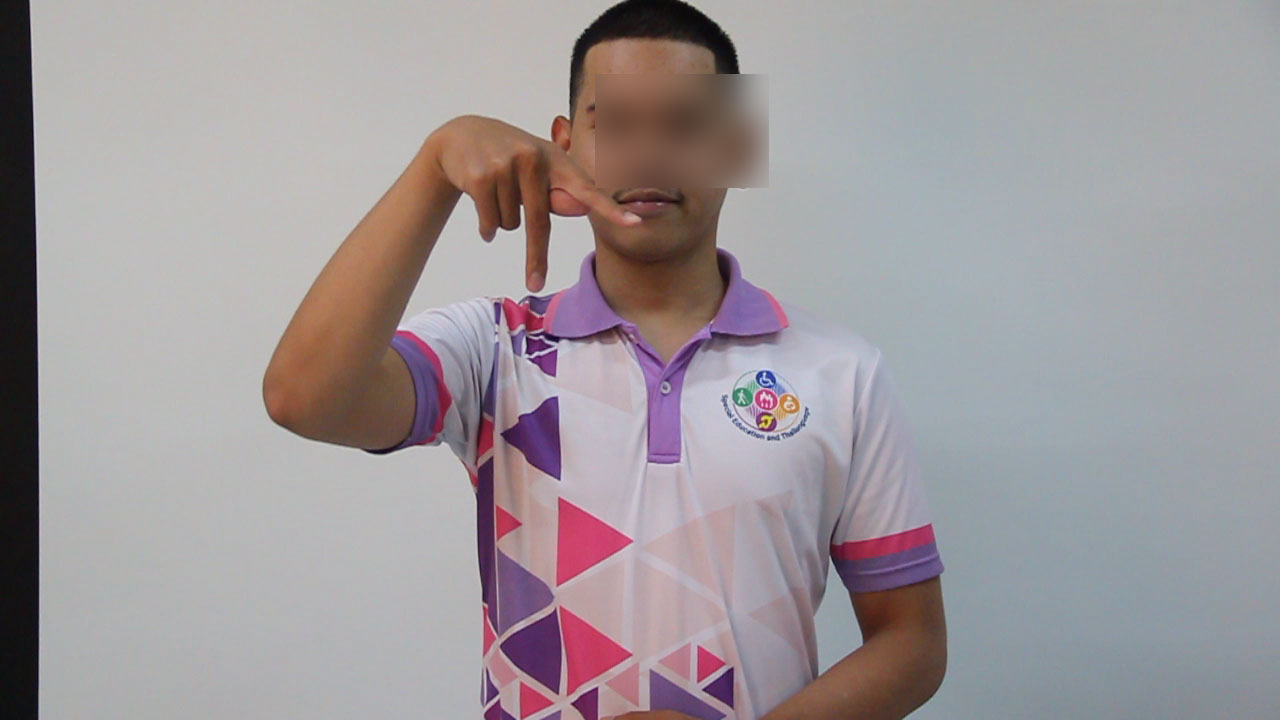por: (421, 85, 646, 307)
